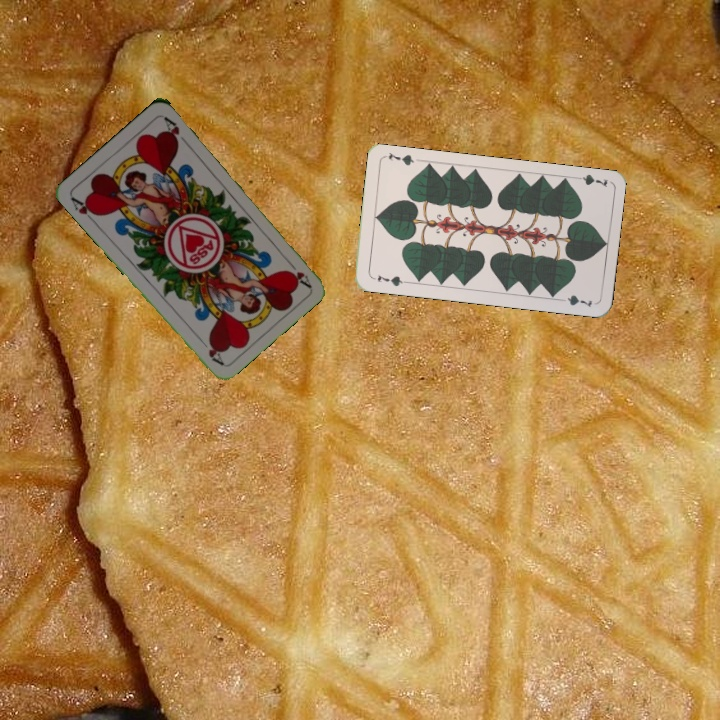G7: (569, 170, 610, 190), (373, 271, 409, 289)
HA: (67, 193, 101, 226), (283, 255, 313, 290)
